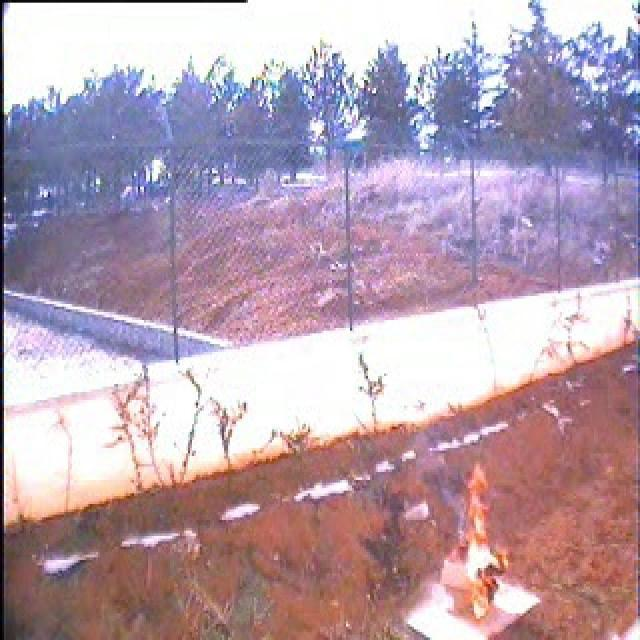Fire: (463, 461, 513, 624)
Smoke: (412, 427, 468, 535)
